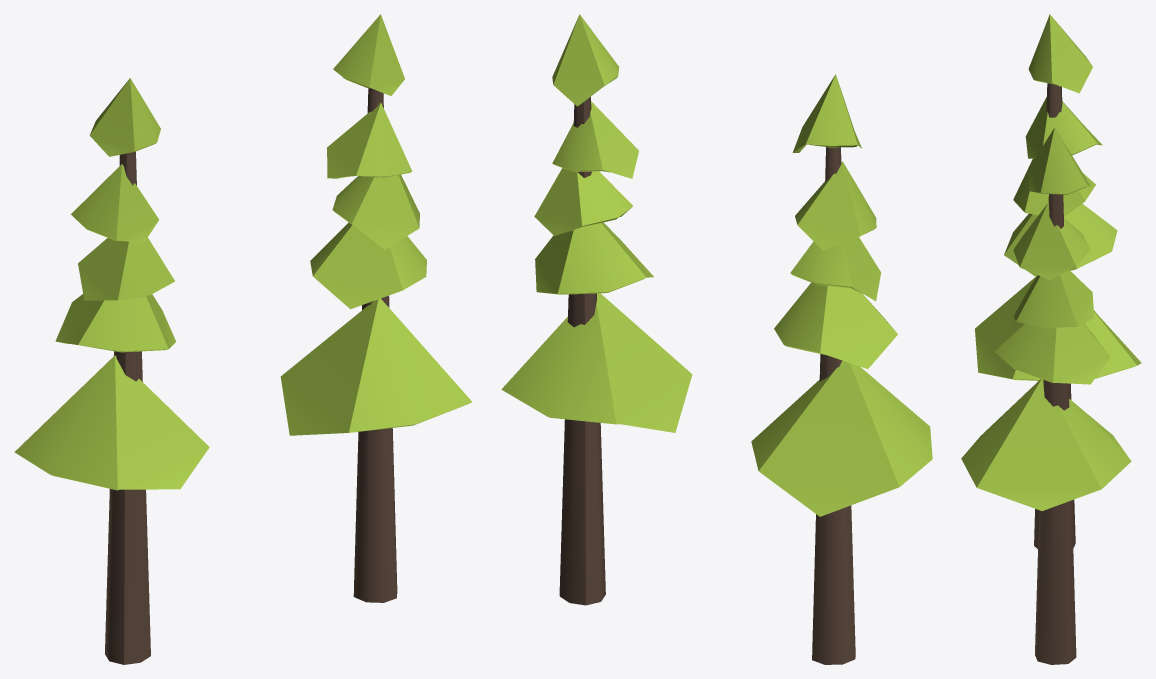
The picture shows the model from 3 angles, left to right: view 1: azimuth 30°, elevation 25°; view 2: azimuth 150°, elevation 25°; view 3: azimuth 270°, elevation 25°; orthographic projection. The views are drawn at different scales.
Visible parts, largest first — view 1: default11_Material_0; view 2: default11_Material_0; view 3: default11_Material_0.
Part boxes in pixels (x1=…): default11_Material_0: x1=14, y1=14, x2=472, y2=664; default11_Material_0: x1=501, y1=14, x2=932, y2=664; default11_Material_0: x1=961, y1=14, x2=1141, y2=664.
Size of the model in its own units: 0.0616 by 0.0831 by 0.0256.
1 material, 1 textured.
